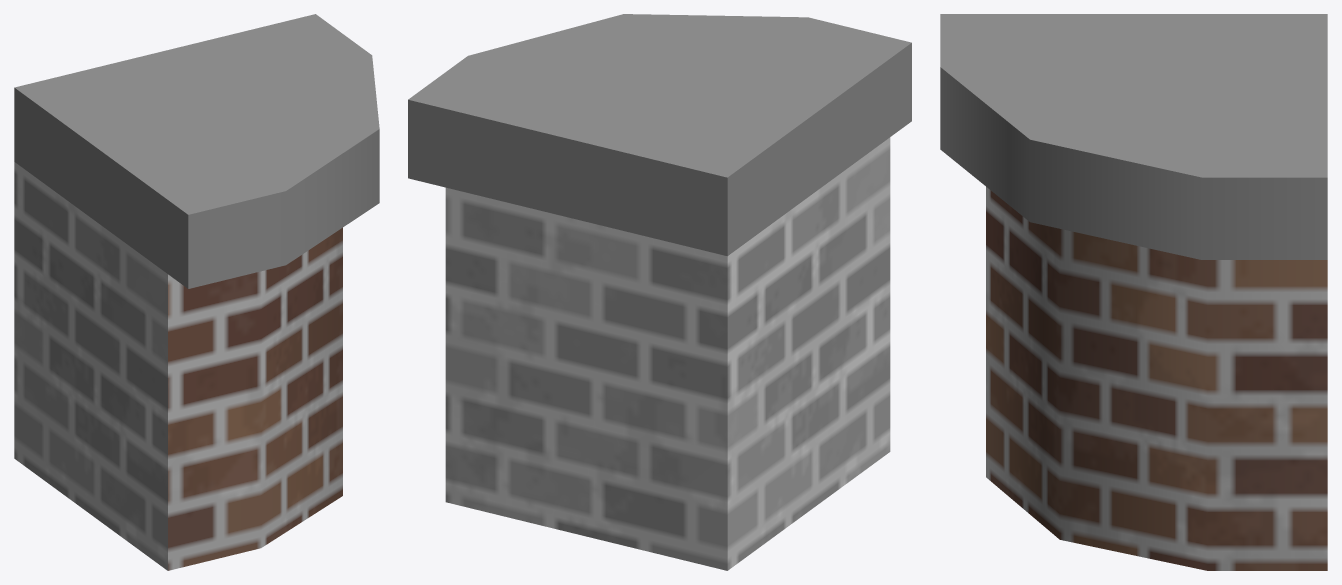
File: Corner_Wall_009.FBX
3 renders of one model, left to right at view 1: azimuth 30°, elevation 25°; view 2: azimuth 150°, elevation 25°; view 3: azimuth 270°, elevation 25°, orthographic. The views are drawn at different scales.
Parts seen in each view (by area): view 1: Corner_Wall_009; view 2: Corner_Wall_009; view 3: Corner_Wall_009.
Part boxes in pixels (x1=…): Corner_Wall_009: x1=14, y1=14, x2=379, y2=570; Corner_Wall_009: x1=408, y1=14, x2=911, y2=570; Corner_Wall_009: x1=940, y1=14, x2=1327, y2=570.
Bounding box in the file's own units: 85 × 85 × 100.
